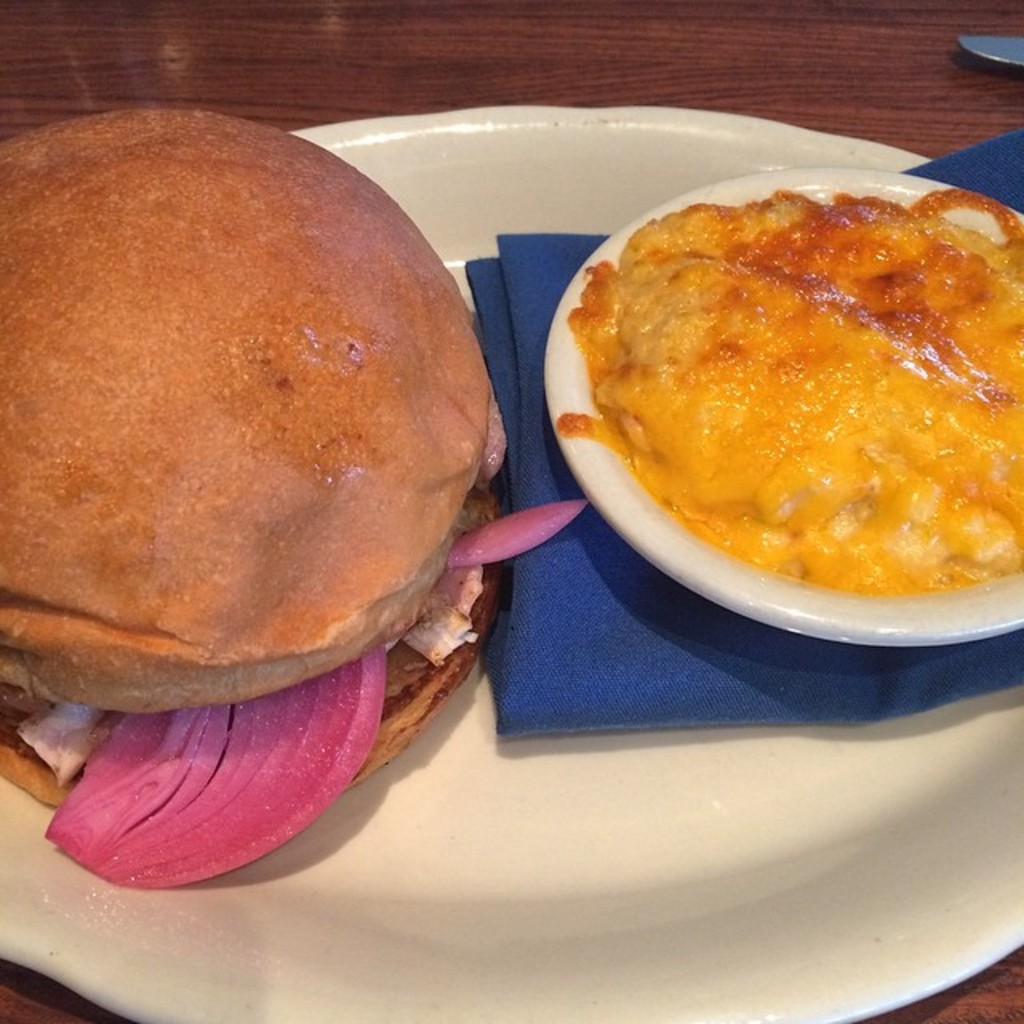Hamburger: (0, 110, 593, 888)
